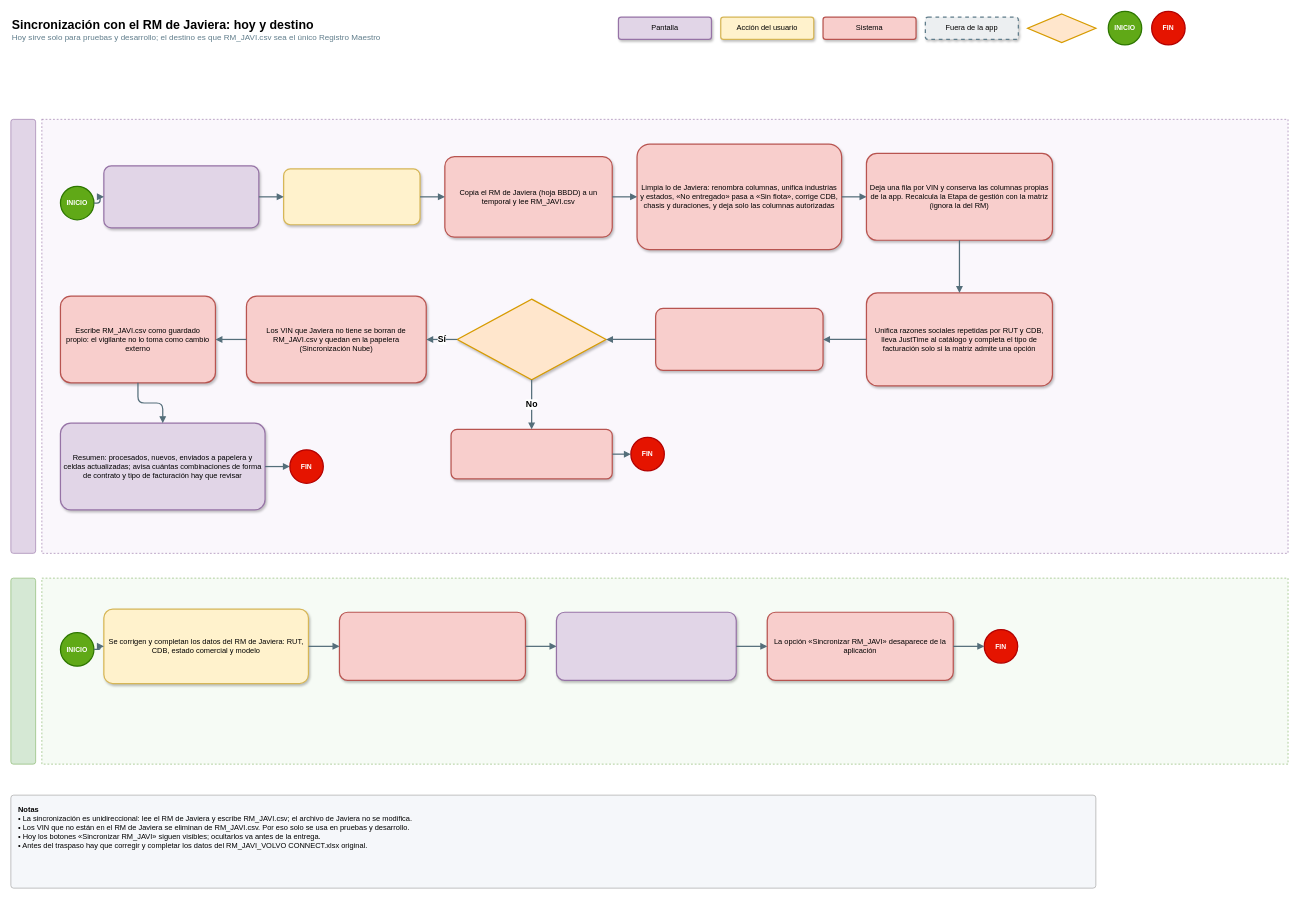
The diagram is 1299 pixels wide and 899 high, and some of its shapes have lost their labels. The centre of each missing label's shape, as x and y in pixels:
Botón «Sincronizar RM_JAVI» (Comercial o Configuración › Avanzado): [181,197]
Cancela: no se cambia ningún dato: [532,455]
Decisión: [1061,28]
Destino: producción: [23,671]
Hace la copia de seguridad de RM_JAVI.csv: [739,340]
Hoy: solo pruebas y desarrollo: [23,336]
Javiera y el equipo trabajan directo en Gestor SSCC: [646,647]
Presiona «Iniciar Sincronización»: [352,197]
RM_JAVI.csv pasa a ser el único archivo del Registro Maestro: [432,647]
¿Se pudo hacer la copia?: [532,340]
